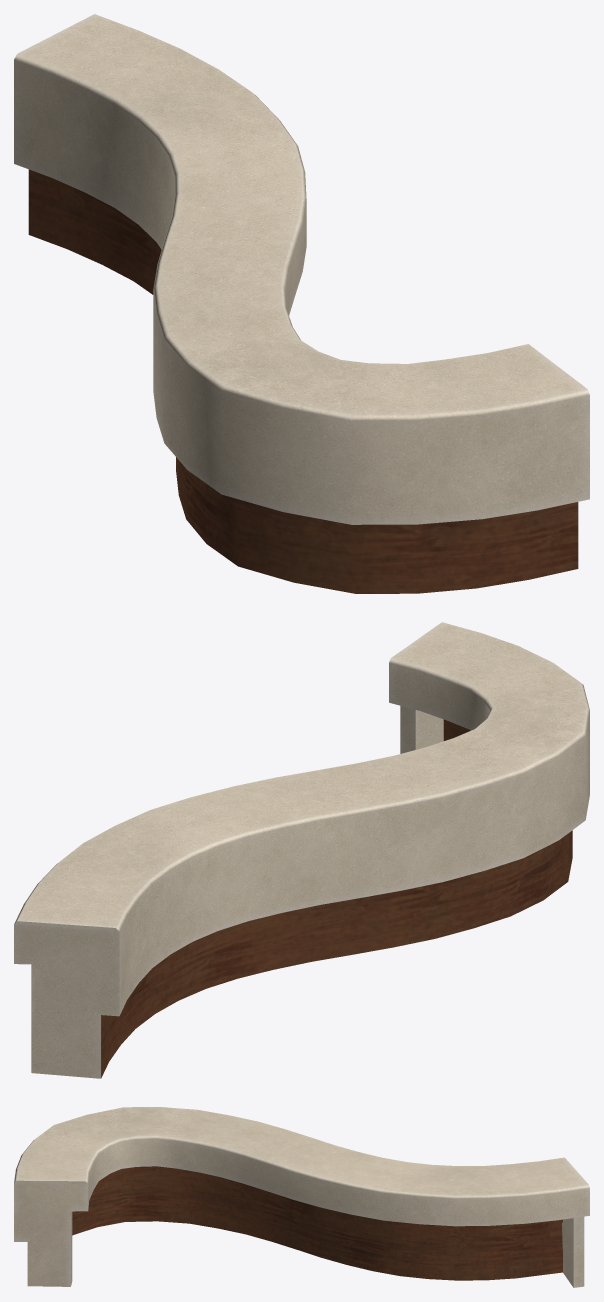
File: reception_desk_geo.glb
The picture shows the model from 3 angles, top to bottom: view 1: azimuth 30°, elevation 25°; view 2: azimuth 150°, elevation 25°; view 3: azimuth 270°, elevation 25°; orthographic projection. The views are drawn at different scales.
Visible parts, largest first — view 1: reception_desk_geo; view 2: reception_desk_geo; view 3: reception_desk_geo.
Boxes of the visible parts, x1,y1,x2,y2 form: reception_desk_geo: [14, 14, 589, 593]; reception_desk_geo: [14, 622, 589, 1078]; reception_desk_geo: [14, 1107, 589, 1287].
Size of the model in its own units: 1.93 by 1.05 by 5.2.
Materials: 1 (1 with a texture image).
